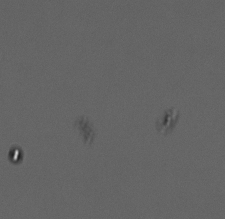Living Cell: (7, 146, 24, 165)
